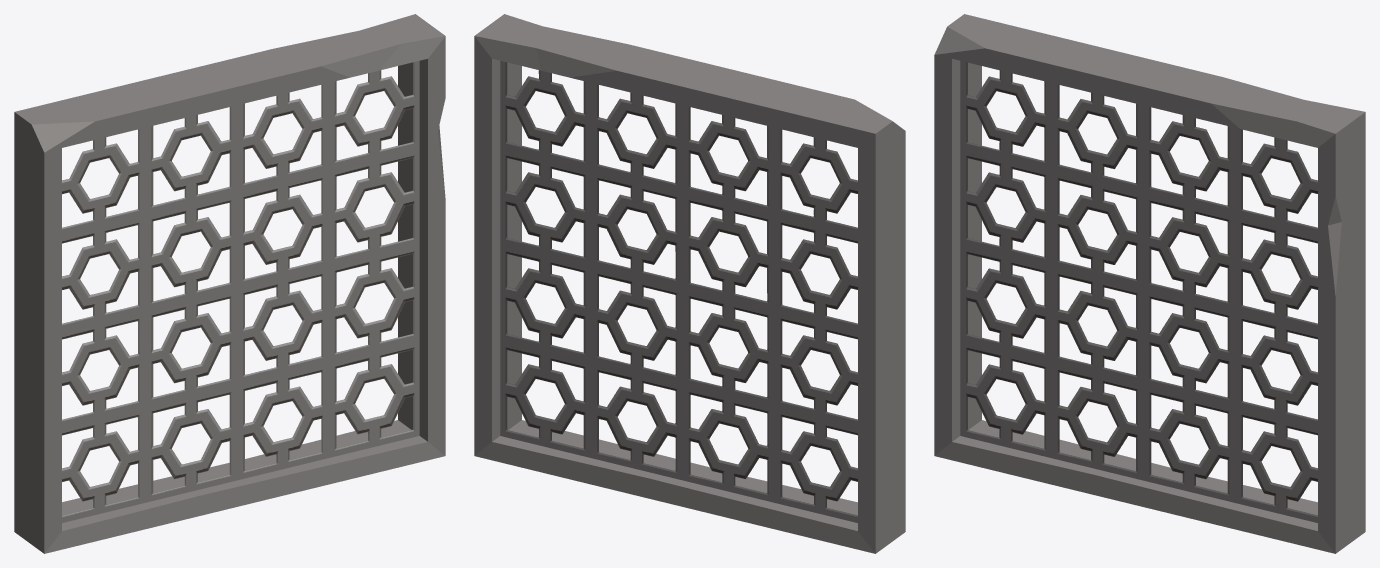
Rendered from SM_Bld_Decorative_Block_07.glb.
The picture shows the model from 3 angles, left to right: view 1: azimuth 30°, elevation 25°; view 2: azimuth 150°, elevation 25°; view 3: azimuth 330°, elevation 25°; orthographic projection.
Parts seen in each view (by area): view 1: SM_Bld_Decorative_Block_07; view 2: SM_Bld_Decorative_Block_07; view 3: SM_Bld_Decorative_Block_07.
Boxes of the visible parts, left/top/right/bottom form: SM_Bld_Decorative_Block_07: left=14, top=14, right=445, bottom=553; SM_Bld_Decorative_Block_07: left=474, top=14, right=905, bottom=553; SM_Bld_Decorative_Block_07: left=934, top=14, right=1365, bottom=553.
Bounding box in the file's own units: 1.82 × 1.82 × 0.2356.
1 material, 1 textured.
